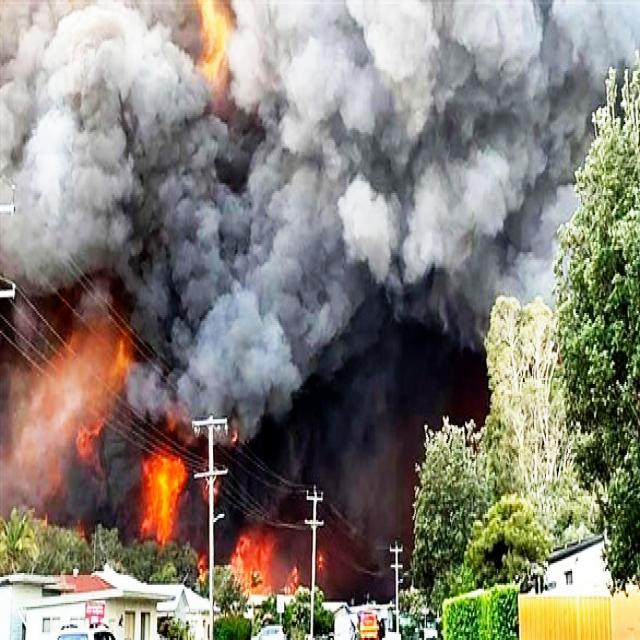api: (147, 457, 189, 554), (234, 538, 275, 600), (200, 1, 229, 74)
asap: (222, 6, 630, 326), (1, 7, 194, 281), (197, 84, 305, 430), (300, 343, 411, 508), (80, 282, 194, 419), (11, 388, 99, 531), (99, 403, 144, 543)
